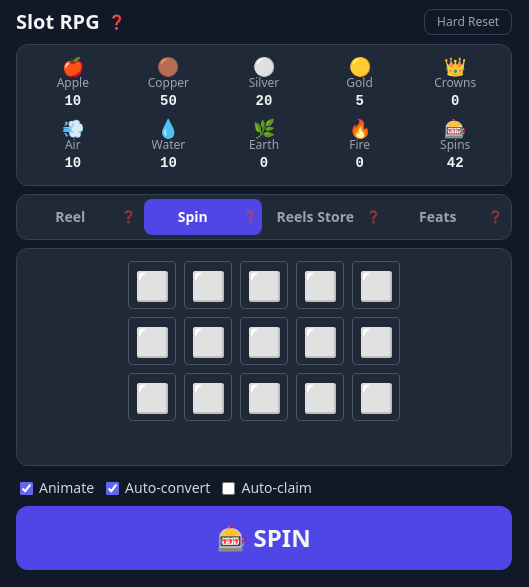
prestige flow integration › prestige button is available when 4 icon types have 3 copies
Step 1. Click the button "Reel" → point(80, 217), box [21, 199, 140, 235]
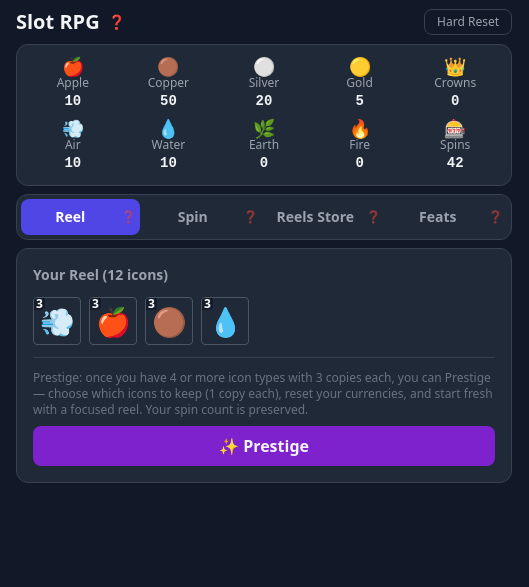
Expected: the button "✨ Prestige" is enabled, [33, 426, 495, 466]
Expected: the button "✨ Prestige" is shown, [33, 426, 495, 466]
